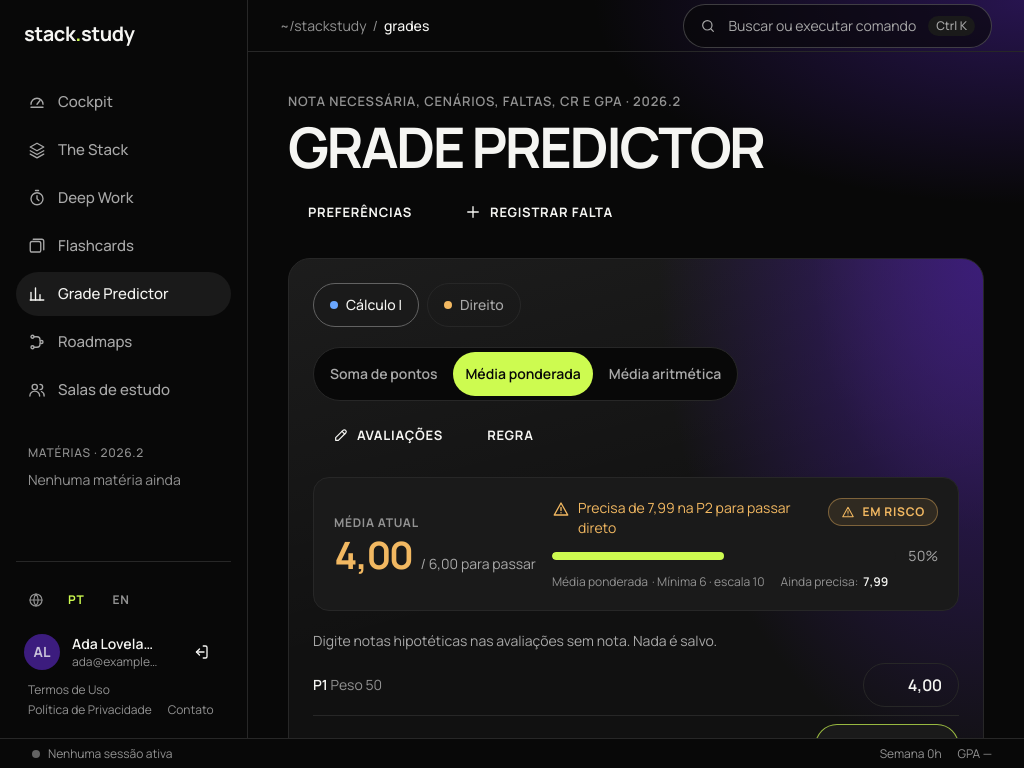
Test: GradesPage › mostra o erro de validação por campo vindo do backend
Click the button with aria-label "Avaliações de Cálculo I" at (388, 435), box left=313, top=413, right=463, bottom=457
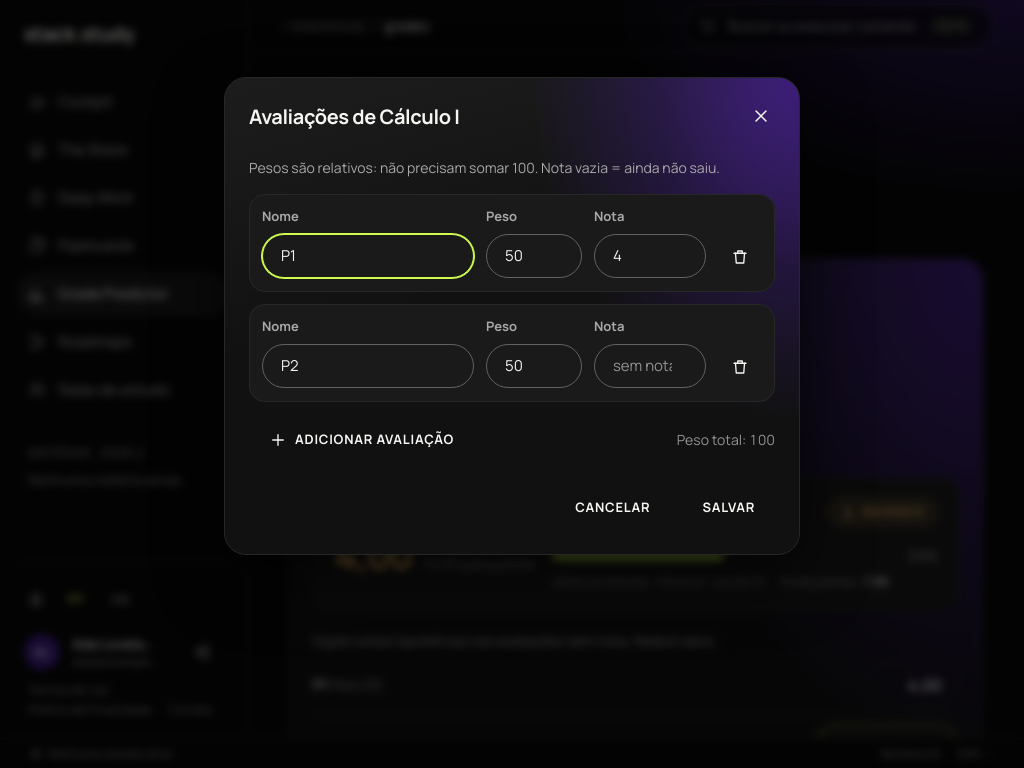
Click the button "Salvar" at (729, 508), box left=682, top=486, right=775, bottom=530
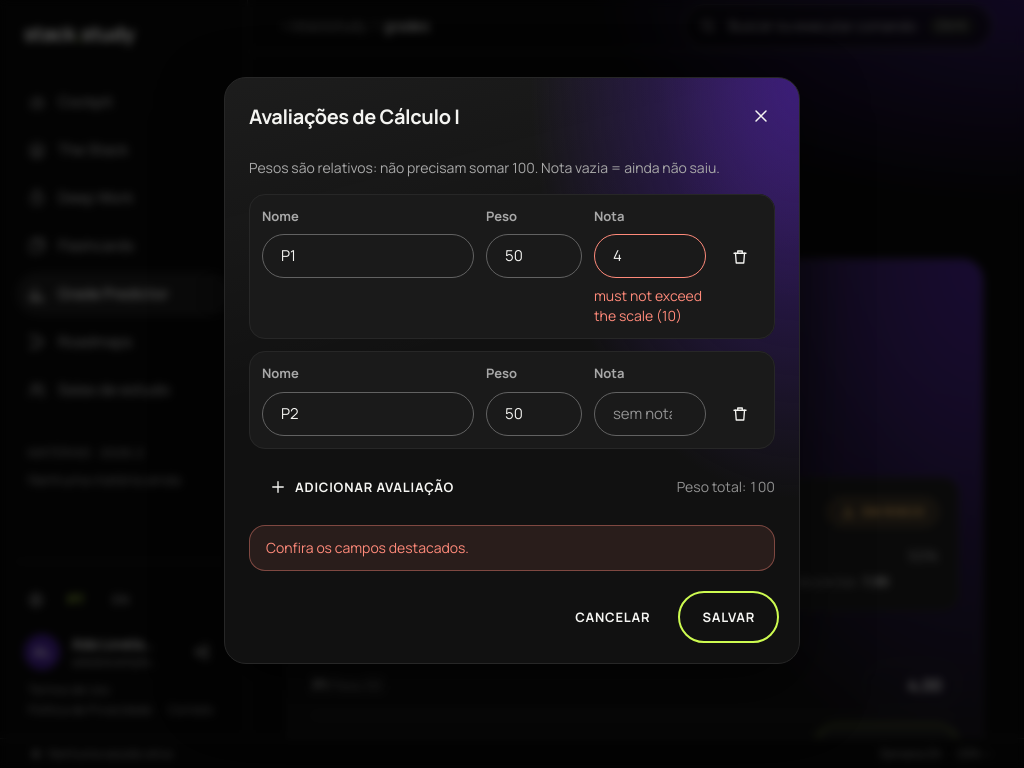
Check: the text "must not exceed the scale (10)" is shown, box left=594, top=286, right=706, bottom=326
Check: the text "Confira os campos destacados." is shown, box left=266, top=538, right=469, bottom=557
